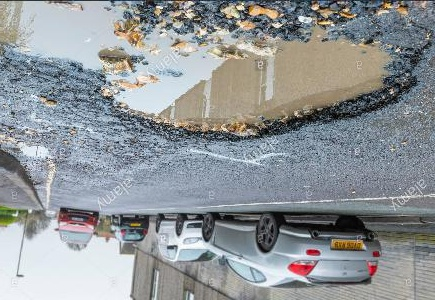pothole: (94, 15, 422, 147), (0, 0, 152, 80), (19, 143, 53, 162)
